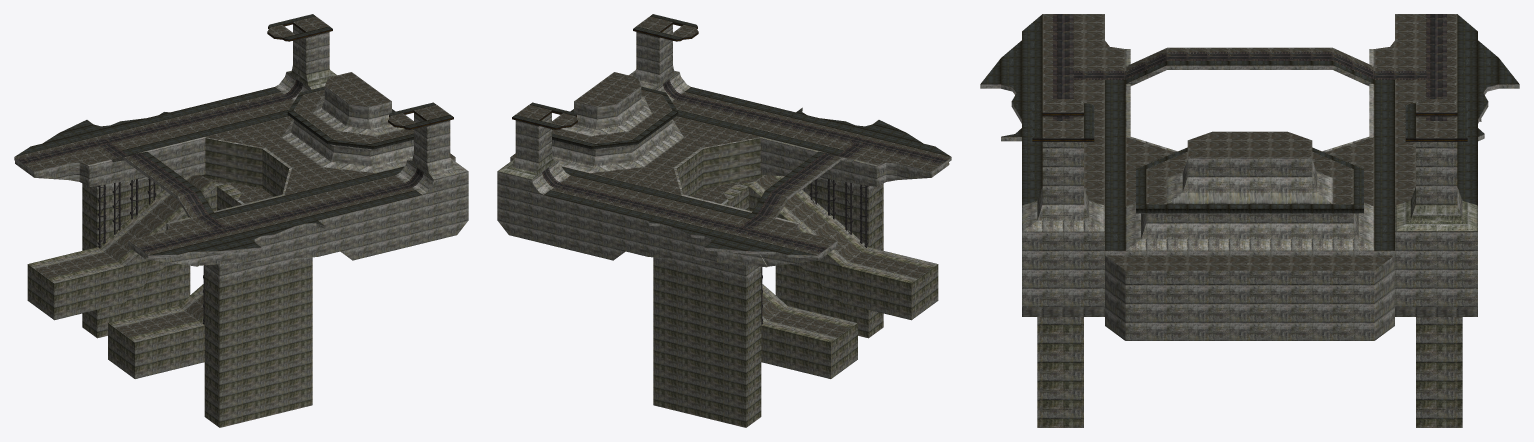
Rendered from Corebase2.fbx.
3 views of the same model, side by side, from view 1: azimuth 30°, elevation 25°; view 2: azimuth 150°, elevation 25°; view 3: azimuth 270°, elevation 25° (orthographic). The views are drawn at different scales.
Parts seen in each view (by area): view 1: Object; view 2: Object; view 3: Object.
Part boxes in pixels (<box>): Object: <box>14,14,468,427</box>; Object: <box>497,14,951,427</box>; Object: <box>980,14,1519,427</box>.
Size of the model in its own units: 23000 by 16800 by 20800.
